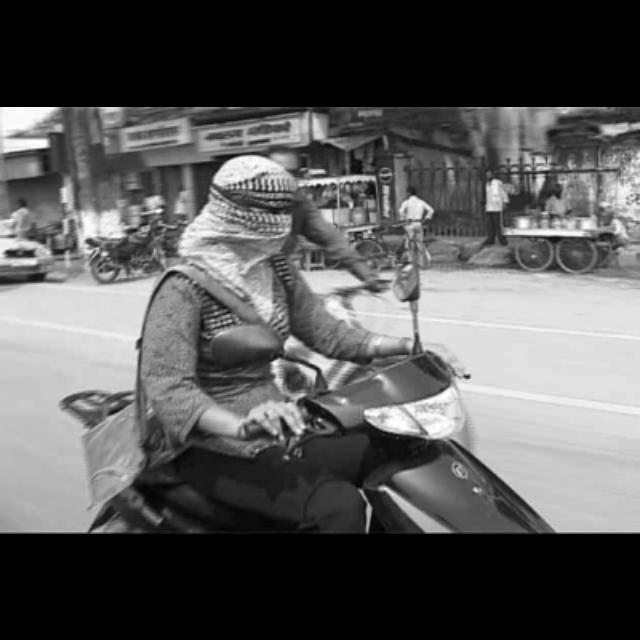With Helmet: (197, 147, 309, 269)
